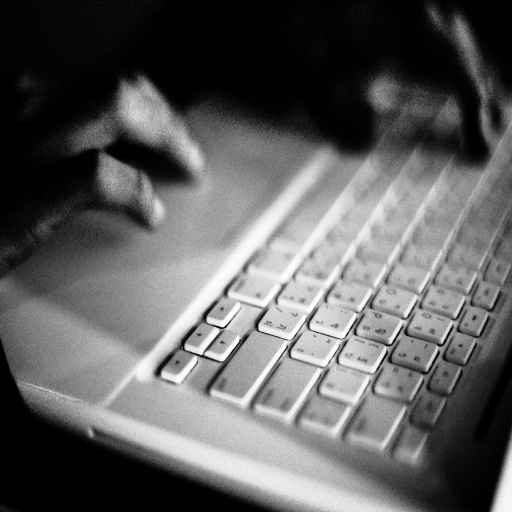hand: (13, 45, 209, 325), (285, 0, 511, 165)
